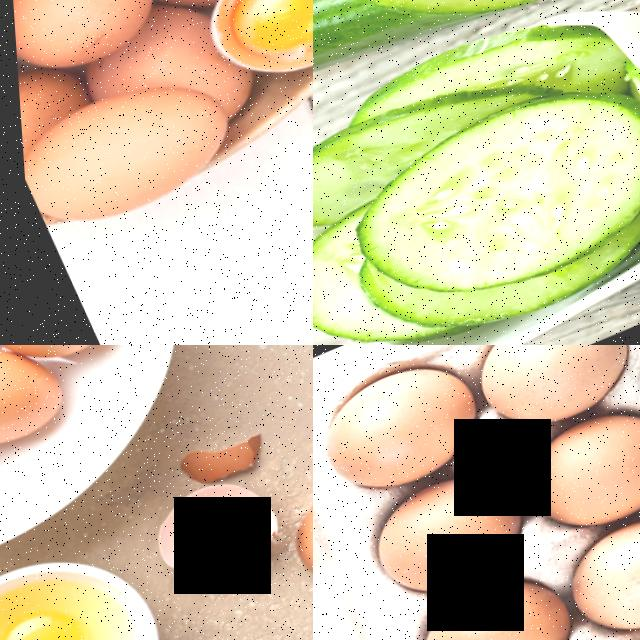cucumber: (320, 64, 640, 334), (313, 0, 640, 161)
egg_: (14, 60, 248, 247), (350, 458, 538, 615), (313, 349, 495, 509), (502, 394, 640, 549), (456, 345, 640, 446), (392, 561, 586, 640), (6, 0, 168, 90), (544, 499, 640, 640), (0, 347, 76, 464), (212, 0, 313, 71), (270, 473, 313, 607), (0, 600, 98, 640)
